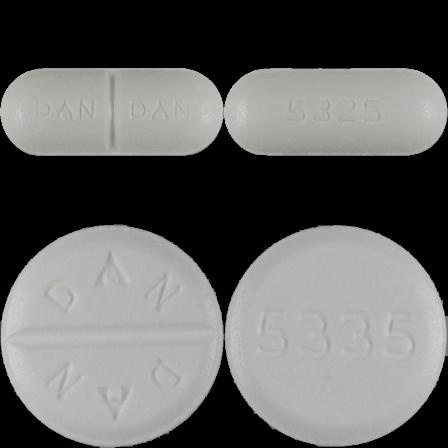0591-5325: (0, 0, 224, 224)
